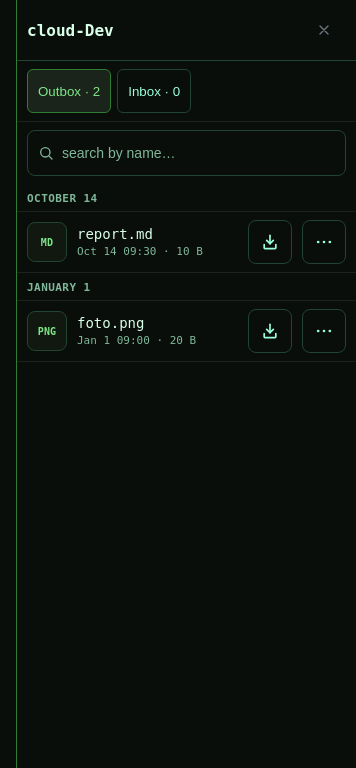
Test: FilesPanel ricerca per nome › filtra l'elenco caricato lato client, senza richieste
Expected: the text "report.md" is shown, [77,226,153,242]
Type "report" into the search field named "search files" at [198, 153], box [62,131,335,175]
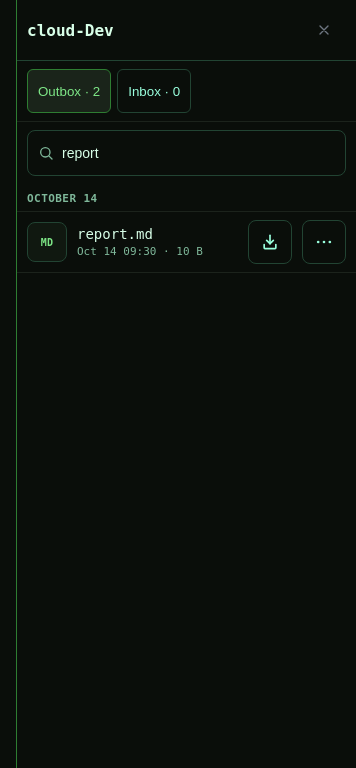
Expected: the text "report.md" is shown, [77,226,153,242]
Expected: the text "foto.png" is gone
